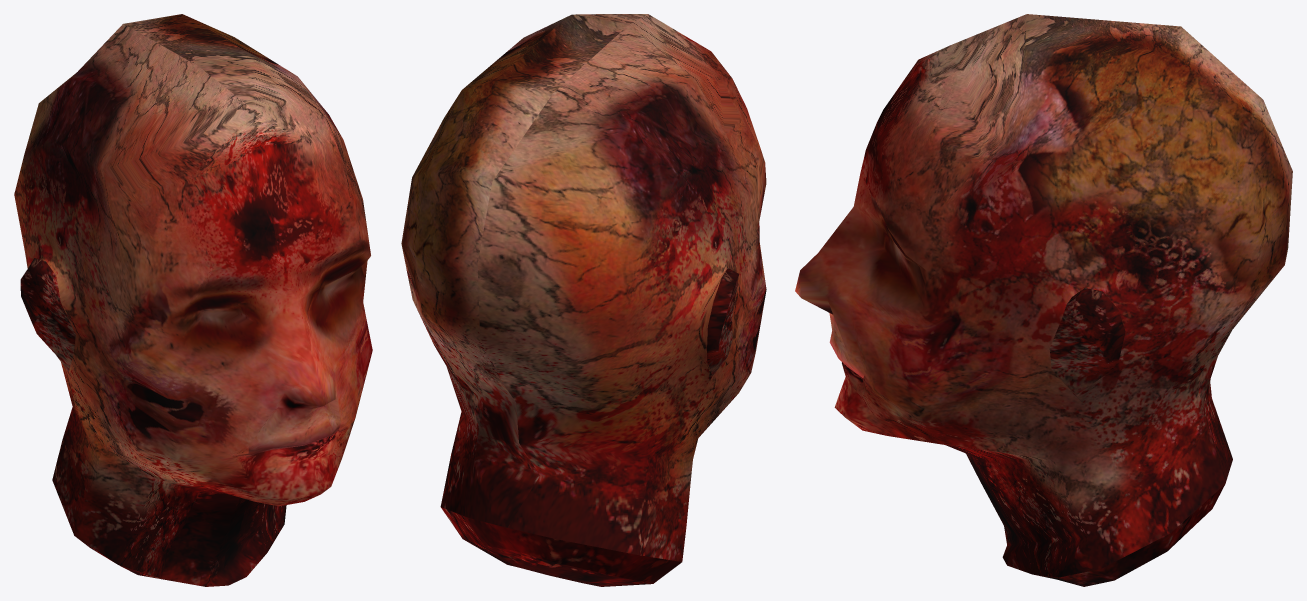
File: head.fbx
3 renders of one model, left to right at view 1: azimuth 30°, elevation 25°; view 2: azimuth 150°, elevation 25°; view 3: azimuth 270°, elevation 25°, orthographic. The views are drawn at different scales.
Visible parts, largest first — view 1: Head; view 2: Head; view 3: Head.
Part boxes in pixels (x1=…): Head: x1=14, y1=14, x2=372, y2=586; Head: x1=401, y1=14, x2=766, y2=586; Head: x1=795, y1=14, x2=1292, y2=586.
Bounding box in the file's own units: 0.2195 × 0.3514 × 0.2925.
